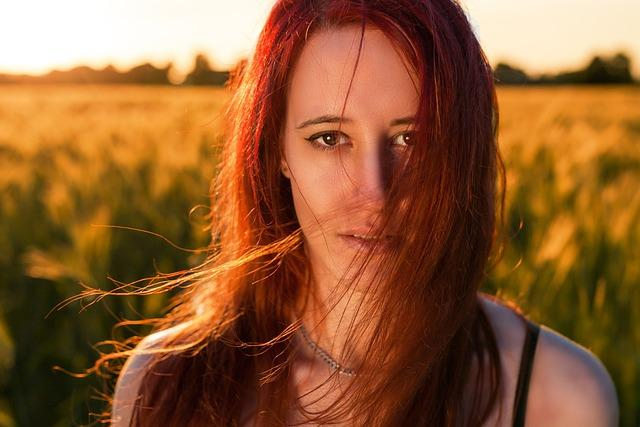Non_Gorille: (98, 3, 631, 427)
